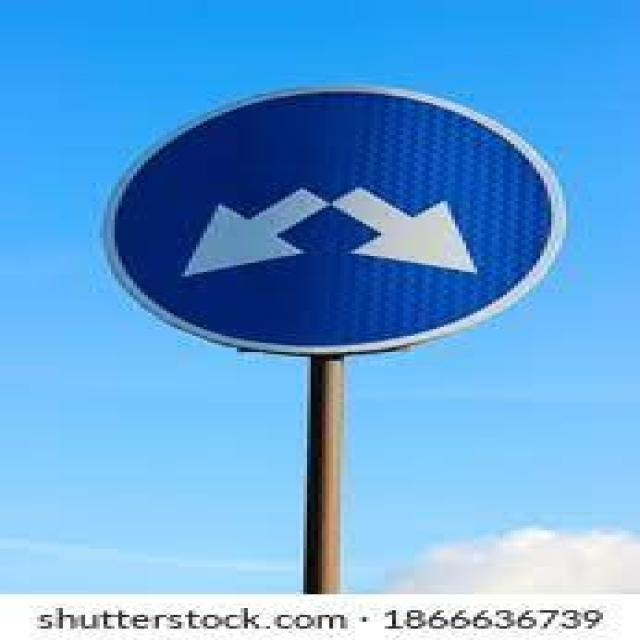pass either side: (96, 83, 566, 357)
